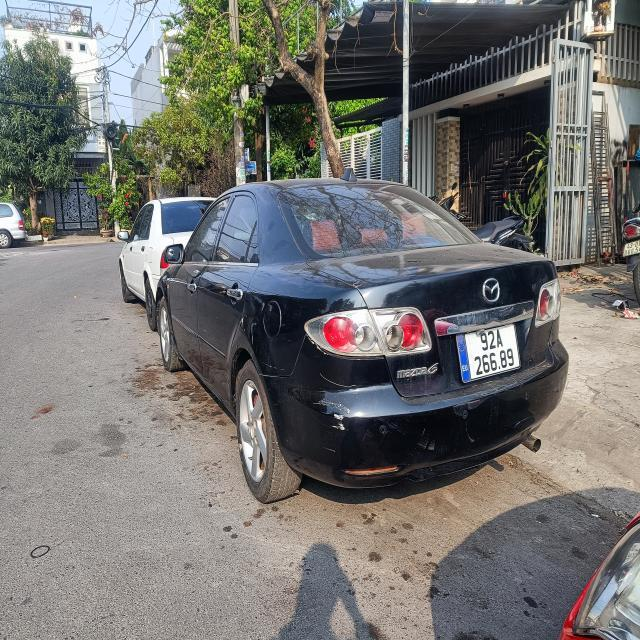car: (127, 168, 574, 510), (0, 196, 31, 254)
plate: (454, 321, 525, 385)
